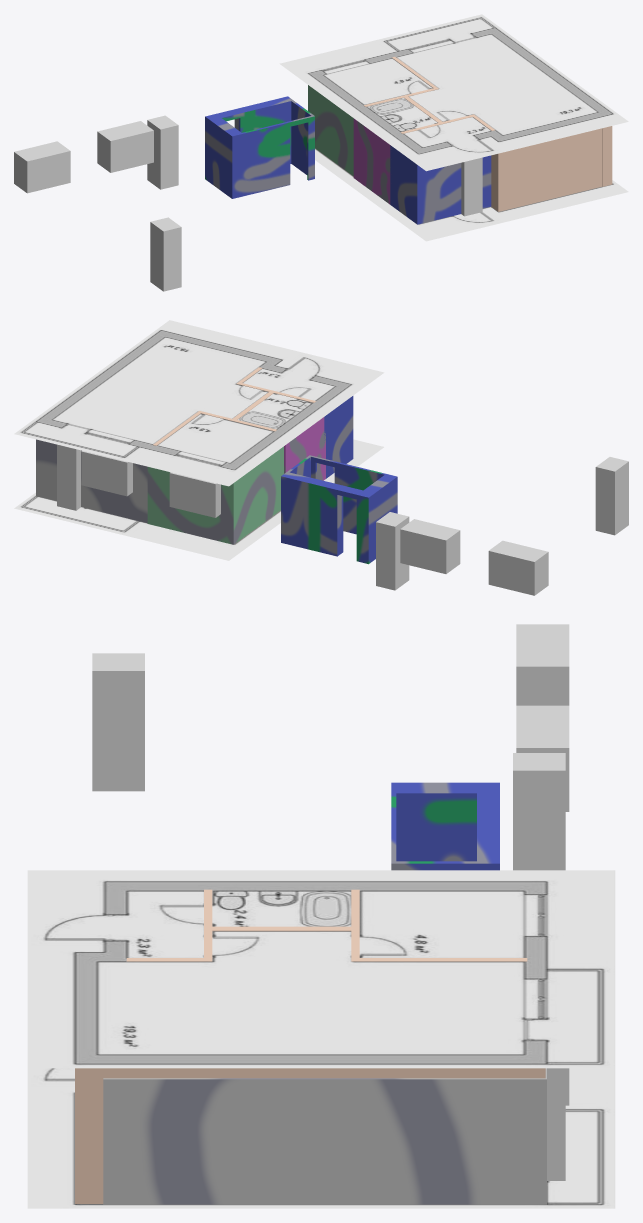
The model's file is fridge (5).fbx.
The picture shows the model from 3 angles, top to bottom: view 1: azimuth 30°, elevation 25°; view 2: azimuth 150°, elevation 25°; view 3: azimuth 270°, elevation 25°; orthographic projection. The views are drawn at different scales.
Parts seen in each view (by area): view 1: потололк, проем.005, room_hallway.004, стены несущие, room_hallway, пол, room_kitchen.002, room_watercloset, проем, перегородка.001; view 2: потололк, проем.005, room_hallway.004, room_kitchen.002, проем, пол, room_livingroom.002, room_hallway, room_watercloset, перегородка.001, перегородка; view 3: потололк, room_livingroom.002, проем.005, пол, room_hallway.004, стены несущие, проем, перегородка.001, перегородка.
Boxes of the visible parts, <box> form: потололк: <box>279,14,628,171</box>; проем.005: <box>14,115,181,291</box>; room_hallway.004: <box>205,96,314,198</box>; стены несущие: <box>318,126,612,211</box>; room_hallway: <box>390,145,491,224</box>; пол: <box>315,148,628,241</box>; room_kitchen.002: <box>308,85,353,175</box>; room_watercloset: <box>353,118,391,204</box>; проем: <box>461,157,482,216</box>; перегородка.001: <box>400,96,494,133</box>; потололк: <box>14,320,384,486</box>; проем.005: <box>376,457,628,595</box>; room_hallway.004: <box>281,455,397,564</box>; room_kitchen.002: <box>147,446,283,544</box>; проем: <box>57,444,220,517</box>; пол: <box>14,439,383,560</box>; room_livingroom.002: <box>36,439,147,523</box>; room_hallway: <box>324,396,353,478</box>; room_watercloset: <box>284,417,325,480</box>; перегородка.001: <box>232,367,316,420</box>; перегородка: <box>153,411,276,445</box>; потололк: <box>27,870,615,1068</box>; room_livingroom.002: <box>103,1068,546,1204</box>; проем.005: <box>92,624,569,870</box>; пол: <box>27,1068,615,1208</box>; room_hallway.004: <box>391,782,499,870</box>; стены несущие: <box>75,1068,545,1203</box>; проем: <box>547,1068,569,1180</box>; перегородка.001: <box>126,889,354,961</box>; перегородка: <box>351,889,527,961</box>.
Bounding box in the file's own units: 28 × 4.97 × 14.85.
